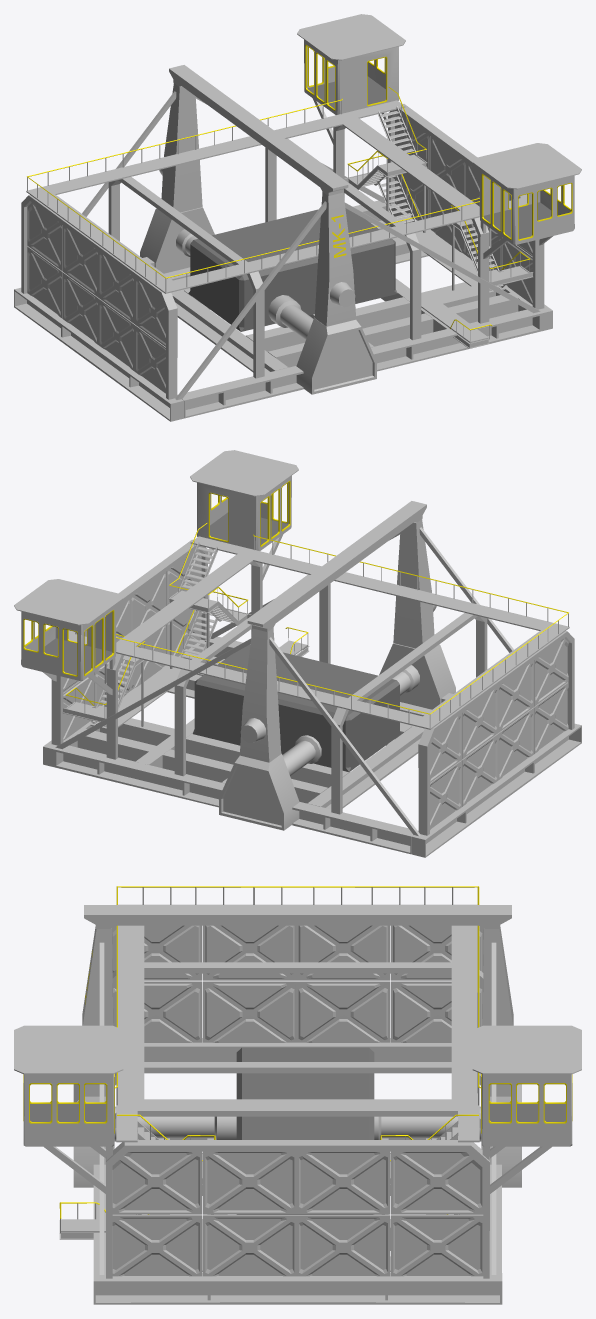
Rendered from walker-body.gltf.
The picture shows the model from 3 angles, top to bottom: view 1: azimuth 30°, elevation 25°; view 2: azimuth 150°, elevation 25°; view 3: azimuth 270°, elevation 25°; orthographic projection. The views are drawn at different scales.
Parts seen in each view (by area): view 1: Box021, Object003, Box184, Plane010, Box051, Box205, Box017, Box010, Box207, Plane007, Box196, Line001 (+4 smaller); view 2: Box021, Object003, Box184, Box051, Plane010, Box205, Box010, Box017, Box207, Plane007, Box196, Line001 (+4 smaller); view 3: Object003, Plane010, Box021, Box184, Box051, Box017, Box205, Box010, Cylinder025, Box046, Box207, Line001 (+4 smaller).
Boxes of the visible parts, box(x1,y1,x2,y2) form: Box021: box(14, 200, 552, 421); Object003: box(27, 114, 532, 393); Box184: box(26, 100, 528, 342); Plane010: box(297, 14, 581, 244); Box051: box(21, 104, 544, 399); Box205: box(188, 208, 397, 331); Box017: box(82, 65, 540, 399); Box010: box(159, 83, 356, 326); Box207: box(140, 207, 376, 394); Plane007: box(305, 45, 572, 257); Box196: box(344, 106, 533, 348); Line001: box(27, 87, 530, 330); Box021: box(43, 636, 581, 857); Object003: box(63, 550, 568, 829); Box184: box(67, 536, 569, 729); Box051: box(51, 539, 574, 835); Plane010: box(14, 450, 298, 680); Box205: box(192, 644, 401, 771); Box010: box(239, 519, 436, 762); Box017: box(55, 501, 513, 835); Box207: box(219, 643, 455, 830); Plane007: box(23, 481, 290, 676); Box196: box(62, 542, 309, 726); Line001: box(66, 523, 568, 714); Object003: box(112, 925, 483, 1276); Plane010: box(14, 1025, 581, 1146); Box021: box(93, 1038, 502, 1304); Box184: box(61, 904, 482, 1272); Box051: box(106, 926, 489, 1278); Box017: box(84, 905, 511, 1274); Box205: box(236, 1047, 374, 1214); Box010: box(82, 927, 513, 1096); Cylinder025: box(114, 1106, 481, 1141); Box046: box(30, 1104, 565, 1121); Box207: box(73, 1084, 521, 1187); Line001: box(59, 886, 480, 1218).
Bounding box in the file's own units: 20.29 × 9.95 × 19.91.
